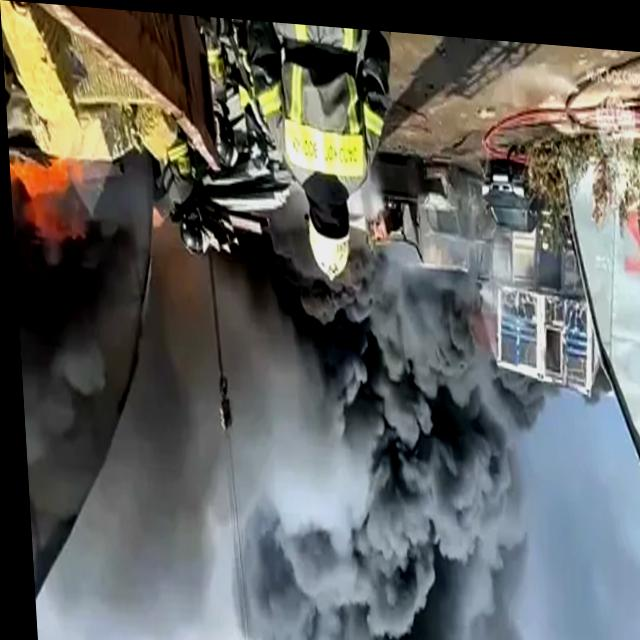no_helmet: (199, 213, 558, 640)
